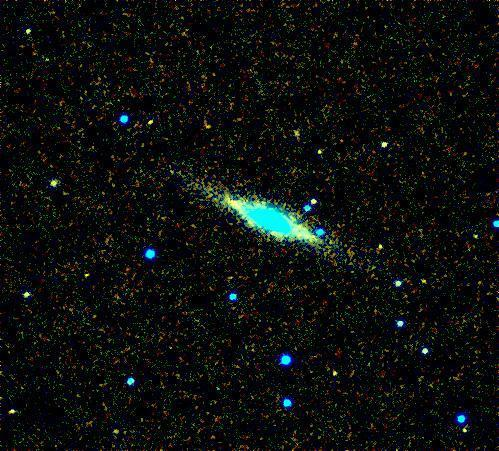star: (298, 188, 328, 218)
